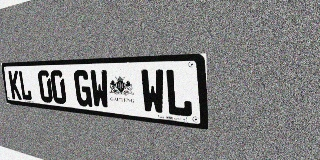0: (50, 70, 67, 105), (37, 70, 53, 103)
G: (73, 70, 92, 107)
K: (8, 71, 22, 100)
L: (164, 69, 193, 118), (18, 70, 32, 101)
W: (140, 69, 166, 115), (89, 70, 110, 109)
